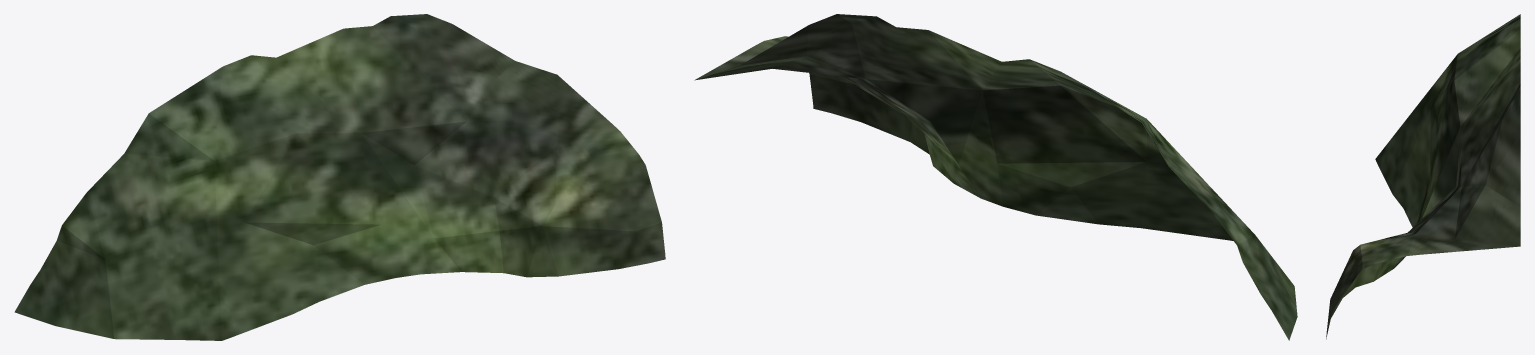
3 renders of one model, left to right at view 1: azimuth 30°, elevation 25°; view 2: azimuth 150°, elevation 25°; view 3: azimuth 270°, elevation 25°, orthographic. The views are drawn at different scales.
Bounding box in the file's own units: 1.83 × 0.6582 × 0.634.
Materials: 1 (1 with a texture image).
